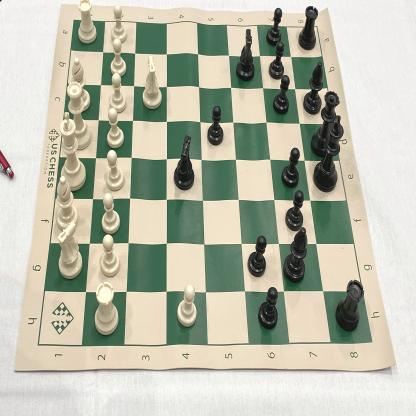black-bishop: (282, 227, 308, 284), (304, 59, 323, 116)
black-king: (312, 115, 344, 194)
black-knight: (173, 132, 196, 191), (235, 28, 256, 81)
black-pawn: (247, 234, 268, 280), (258, 286, 278, 329), (284, 191, 306, 230), (282, 145, 300, 188), (206, 104, 224, 146), (273, 75, 290, 116), (266, 5, 283, 45), (269, 41, 285, 80)
black-queen: (310, 89, 342, 157)
black-rook: (334, 278, 364, 333), (298, 5, 317, 51)
white-bishop: (55, 176, 78, 231), (71, 57, 91, 112)
white-king: (58, 111, 86, 189)
white-knight: (55, 221, 83, 280), (141, 54, 162, 113)
white-pawn: (176, 282, 197, 329), (99, 233, 120, 277), (101, 191, 120, 233), (105, 149, 124, 190), (106, 108, 124, 148), (110, 74, 126, 112), (111, 38, 127, 75), (111, 5, 126, 42)
white-queen: (66, 80, 91, 150)
white-rook: (93, 280, 118, 336), (78, 0, 96, 44)
